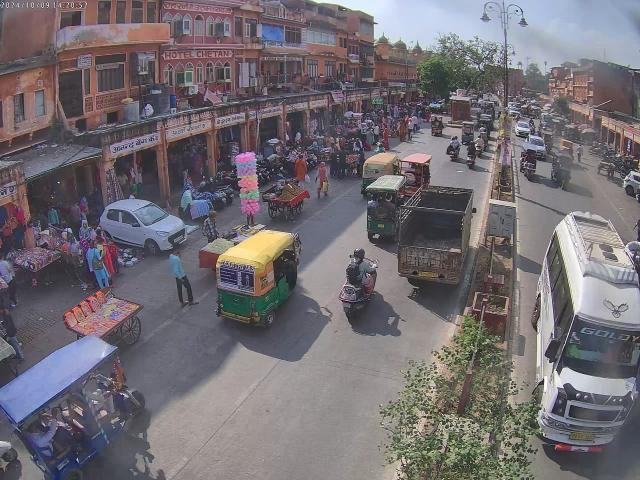auto: (0, 334, 141, 480), (213, 228, 301, 330), (362, 177, 410, 235), (549, 154, 575, 192), (518, 150, 538, 178), (460, 120, 476, 145), (430, 116, 444, 136)
bus: (538, 208, 640, 464)
helmet: (352, 248, 367, 258)
license_plate: (560, 441, 596, 447), (419, 271, 438, 277), (341, 302, 351, 308), (377, 224, 384, 228)
lorry: (395, 184, 473, 295)
motorbike: (194, 180, 235, 207)
person: (164, 250, 193, 306), (84, 240, 111, 293), (316, 162, 330, 198), (46, 204, 60, 228), (572, 142, 584, 164)
scooty-rider: (339, 246, 381, 320), (446, 138, 460, 162), (465, 142, 478, 164)
vendor: (266, 186, 310, 222)
